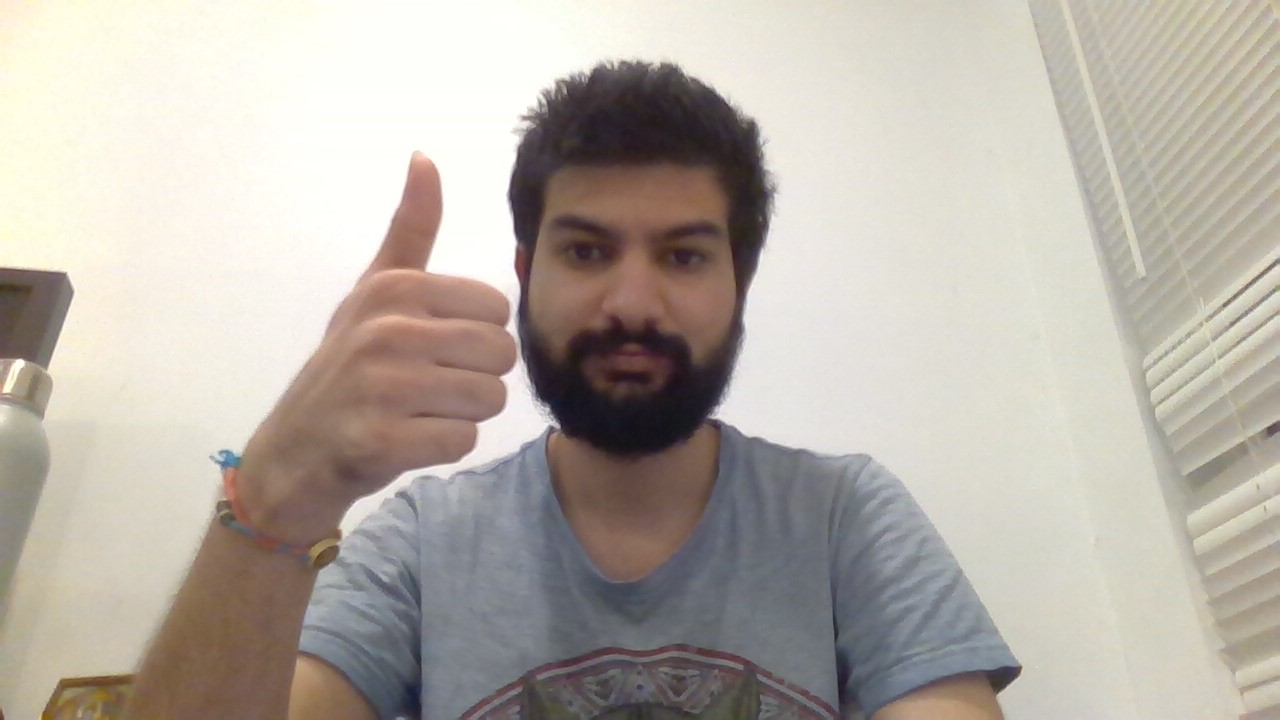up: (321, 139, 521, 486)
